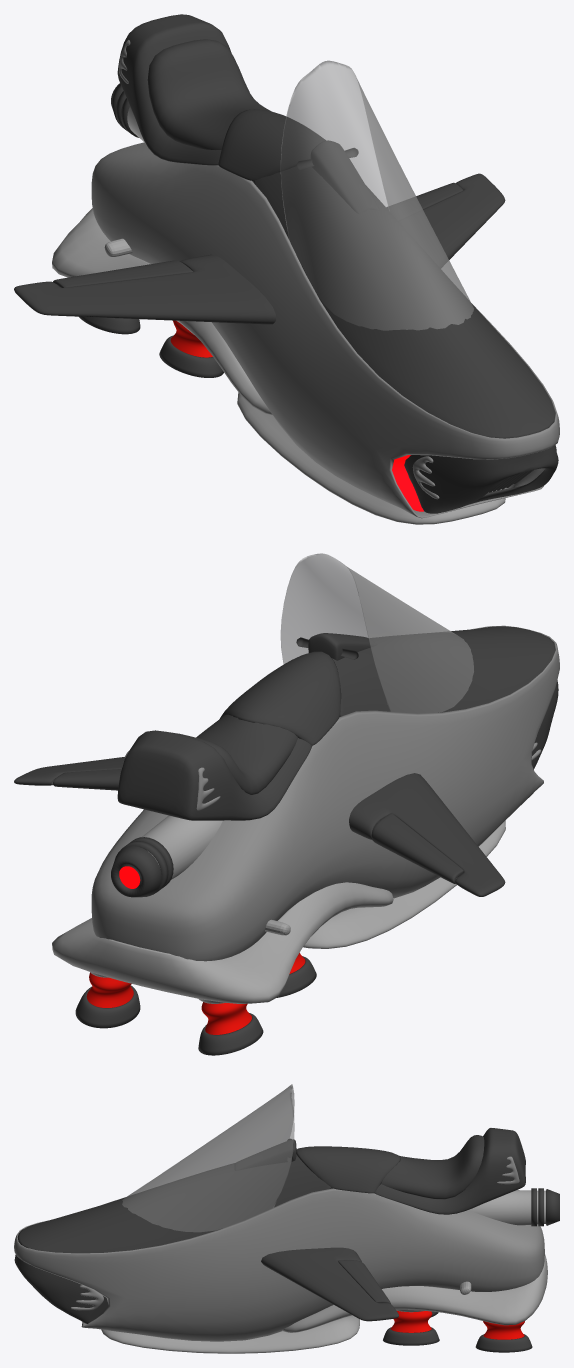
File: Shox.glb
The picture shows the model from 3 angles, top to bottom: view 1: azimuth 30°, elevation 25°; view 2: azimuth 150°, elevation 25°; view 3: azimuth 270°, elevation 25°; orthographic projection. The views are drawn at different scales.
Visible parts, largest first — view 1: body_paint_base, body_paint_accent_1, body_glass, body_paint_metal, body_paint_accent_2, body_light_glow; view 2: body_paint_base, body_paint_accent_1, body_paint_metal, body_glass, body_paint_accent_2; view 3: body_paint_accent_1, body_paint_base, body_glass, body_paint_metal, body_paint_accent_2.
Boxes of the visible parts, x1,y1,x2,y2 form: body_paint_base: (14,14,558,513); body_paint_accent_1: (91,40,559,518); body_glass: (280,60,473,330); body_paint_metal: (52,106,505,524); body_paint_accent_2: (170,320,212,357); body_light_glow: (392,455,423,511); body_paint_base: (14,626,558,1055); body_paint_accent_1: (91,625,559,961); body_paint_metal: (52,815,505,1003); body_glass: (280,553,473,713); body_paint_accent_2: (86,953,305,1034); body_paint_accent_1: (14,1156,544,1341); body_paint_base: (14,1128,559,1352); body_glass: (122,1084,294,1232); body_paint_metal: (101,1190,547,1353); body_paint_accent_2: (390,1311,524,1339).
Bounding box in the file's own units: 2.7 × 2.06 × 4.01.
